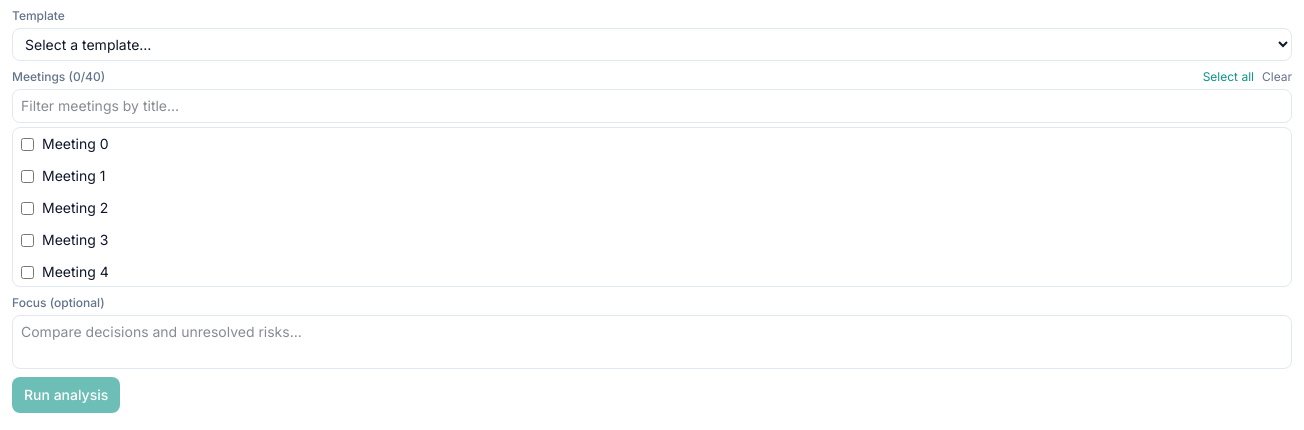
CrossAnalysisComposer › does not allow selecting beyond the shared maximum of 40 notes
What coordinates should you click on to do the following:
click the button "Select all"
I would click on:
 (1228, 77)
Its box is [1203,69,1254,85].
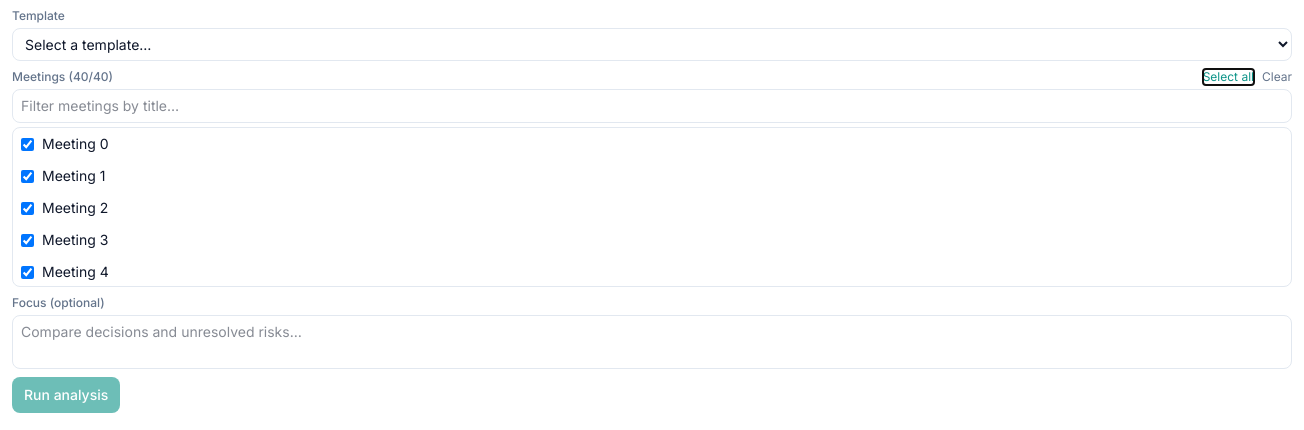
Result: the text "Meetings (40/40)" is shown at [12,69,113,85]
